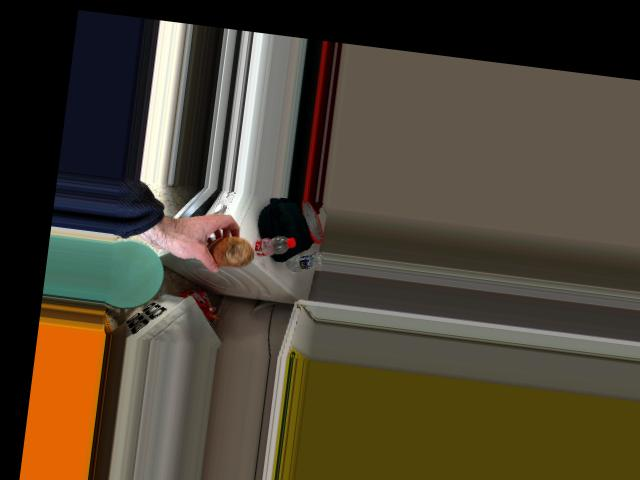sweet_potato: (198, 225, 255, 273)
